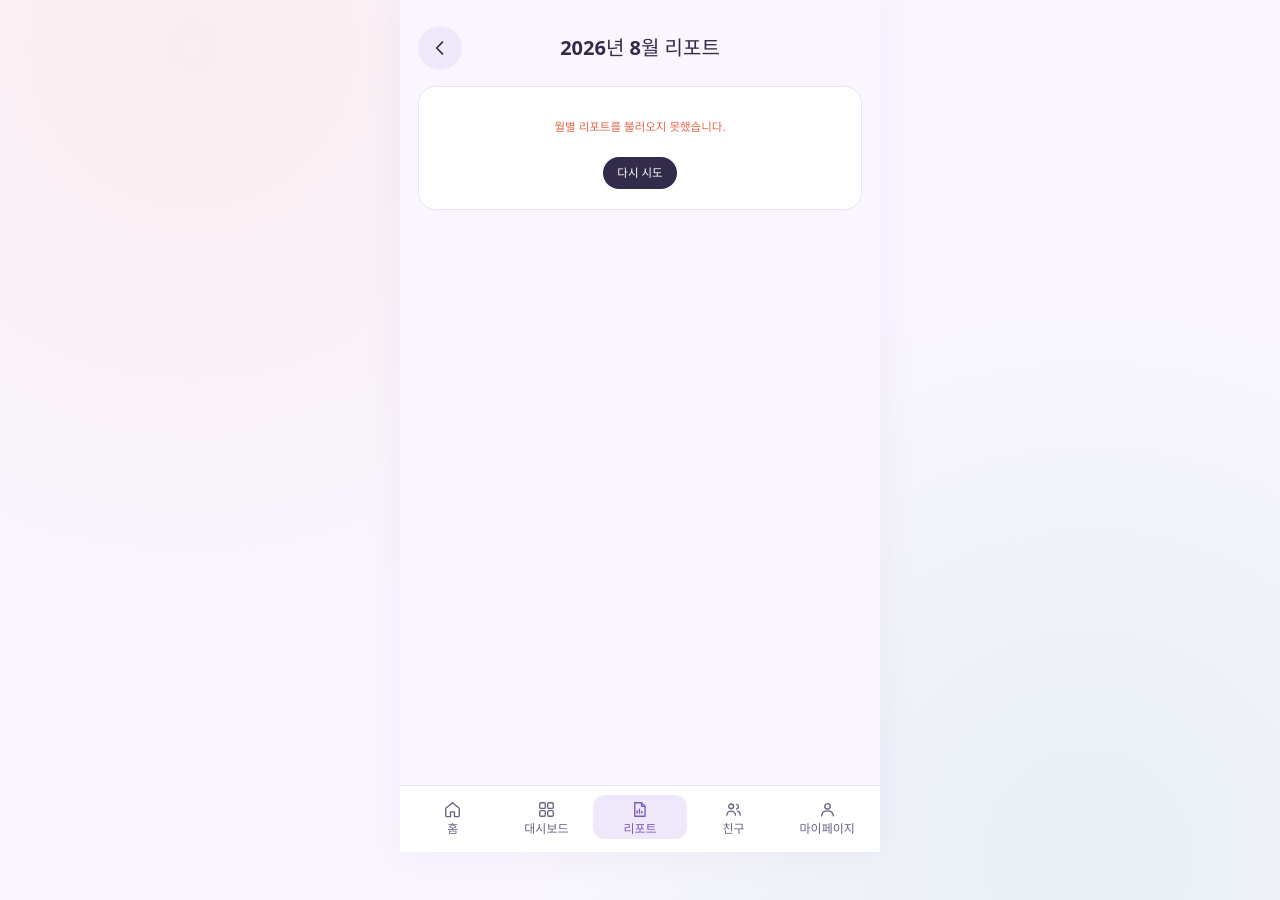
ReportDetailPage › 상세 요청 실패 후 다시 시도한다
expect the message shows "월별 리포트를 불러오지 못했습니다.": met, box [554, 118, 726, 134]
Click the button "다시 시도": (640, 173) [603, 157, 677, 189]
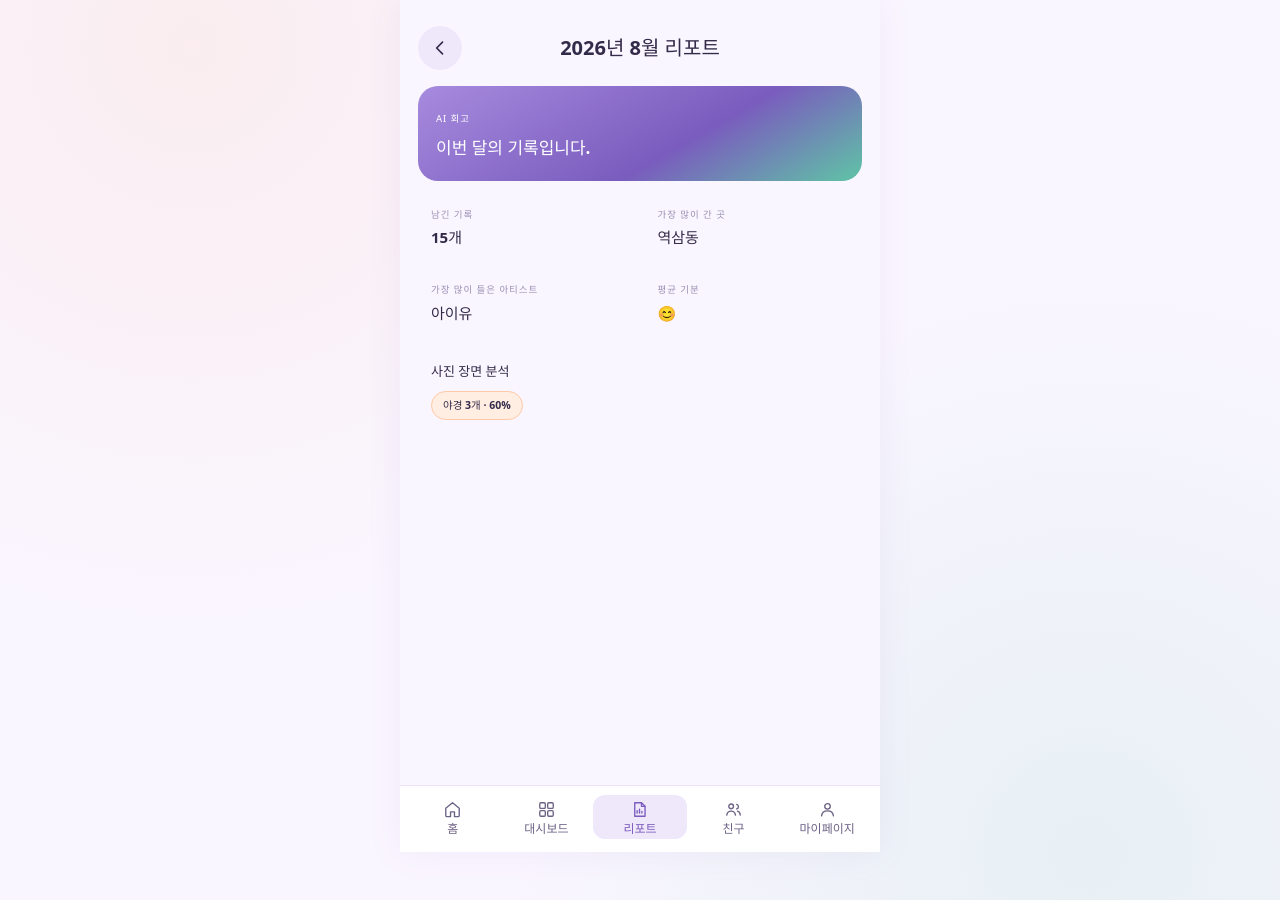
expect the heading "이번 달의 기록입니다." is shown: met, box [436, 136, 590, 159]
